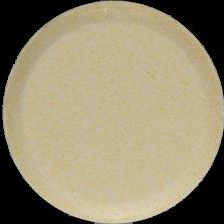61786-965: (0, 0, 224, 224)
